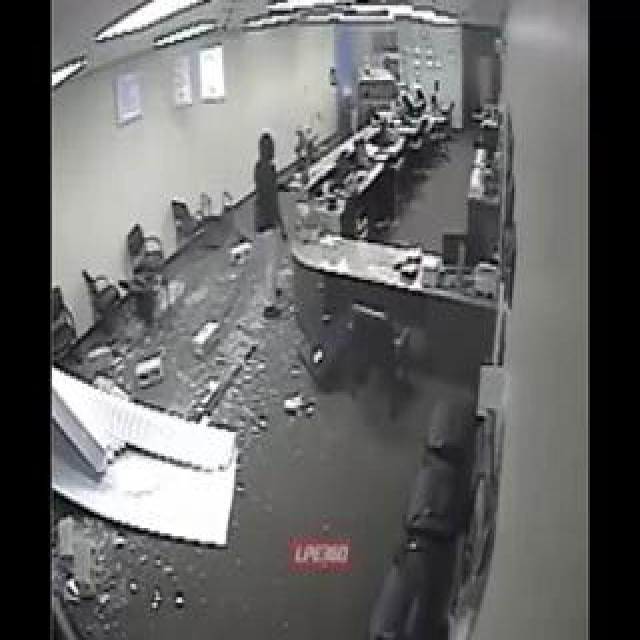thief: (239, 135, 309, 224)
